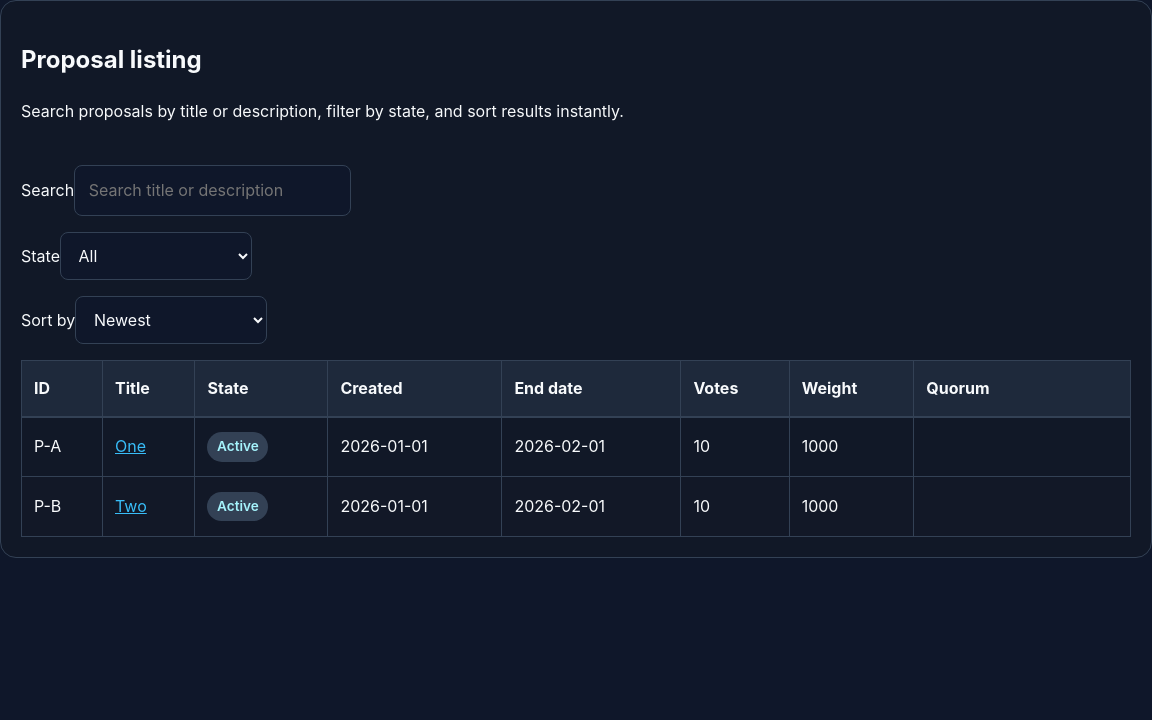
Test: ProposalList › filters by search text (description match)
The image size is (1152, 720).
Type "unique-keyword" into the search field named "search proposals" at (213, 191), box [74, 165, 351, 216]
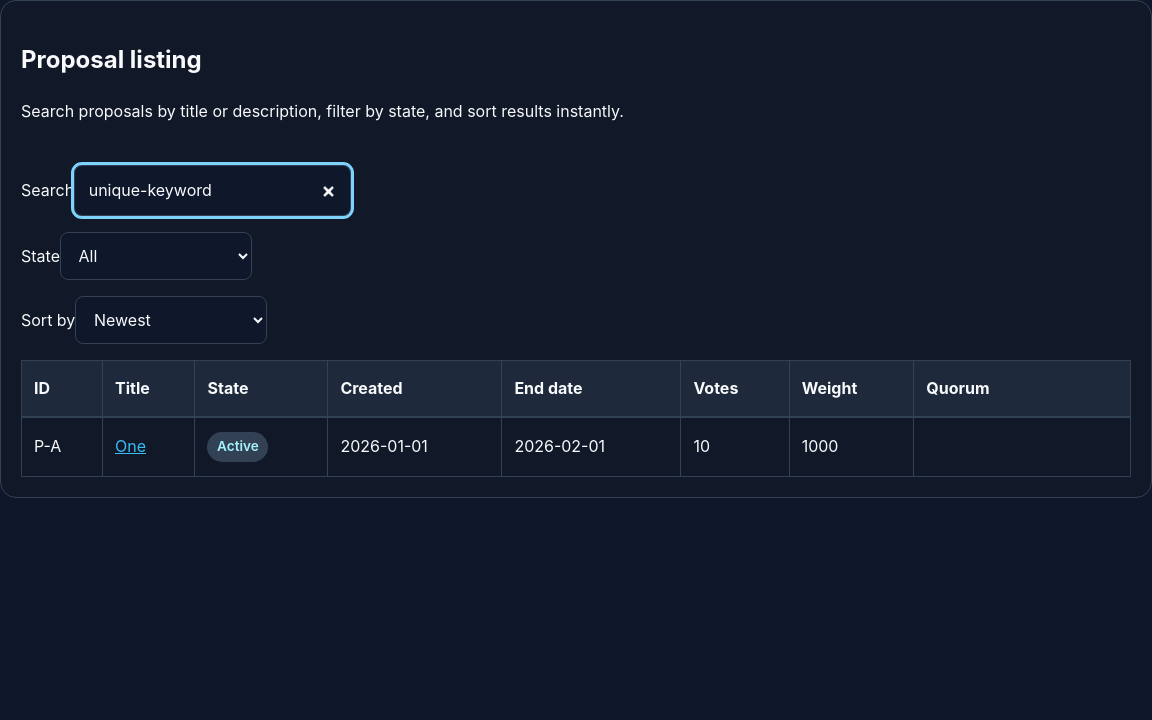
Expected: the link "One" is shown, [115, 436, 146, 456]
Expected: the link "Two" is gone
